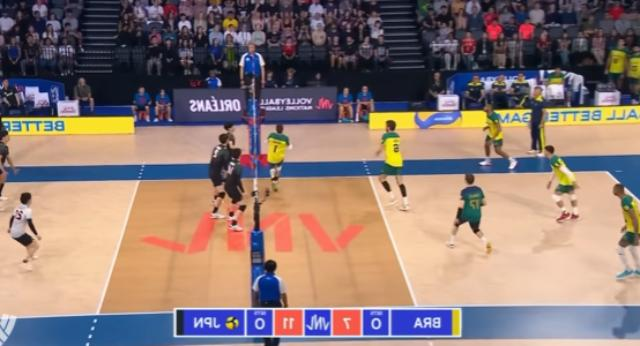Levantador: (258, 114, 298, 198), (221, 112, 241, 148)
Libero: (0, 188, 54, 276), (444, 168, 494, 256)
